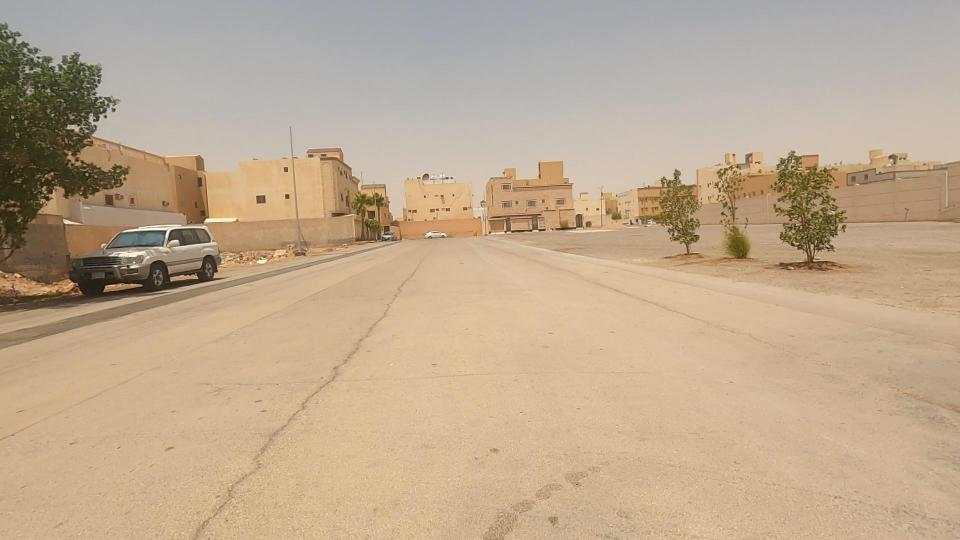GARBAGE: (239, 220, 314, 281), (210, 229, 281, 287)
